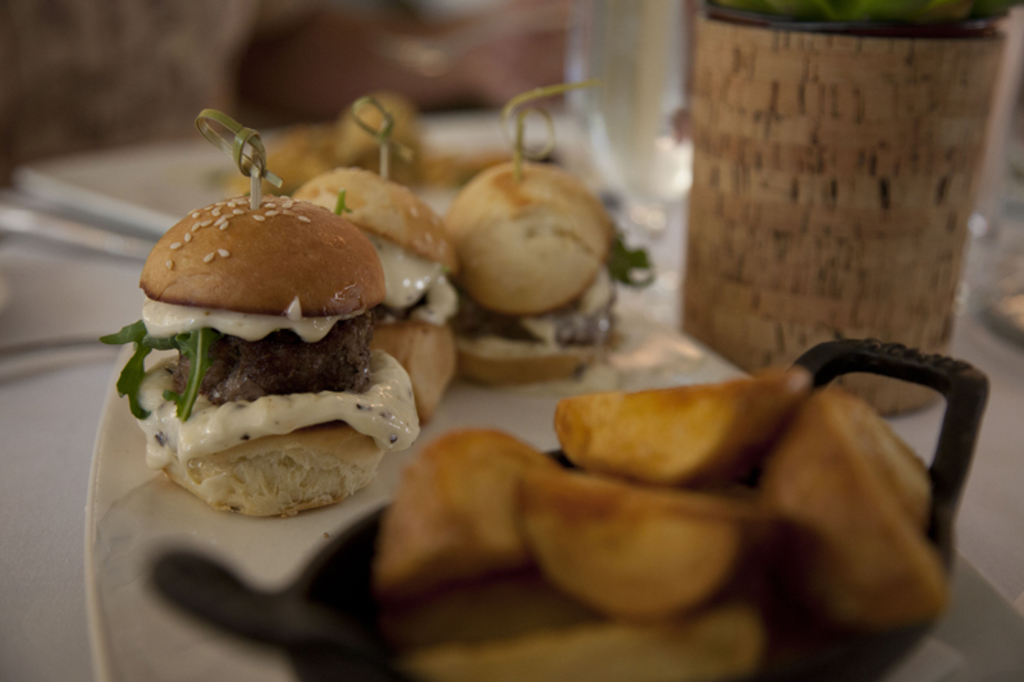Hamburger: (99, 197, 418, 520), (448, 158, 659, 386), (293, 162, 460, 420)
